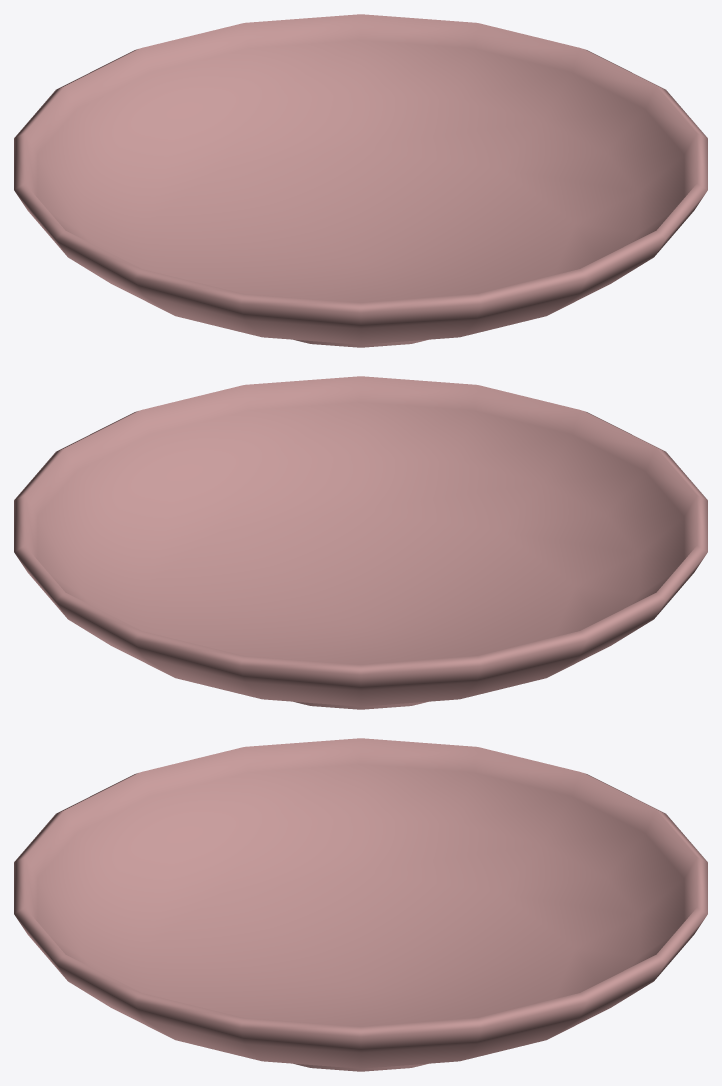
The model's file is Ceramic_06.FBX.
The picture shows the model from 3 angles, top to bottom: view 1: azimuth 30°, elevation 25°; view 2: azimuth 150°, elevation 25°; view 3: azimuth 270°, elevation 25°; orthographic projection.
Visible parts, largest first — view 1: Ceramic_06; view 2: Ceramic_06; view 3: Ceramic_06.
Part boxes in pixels (bbox=[...]): Ceramic_06: bbox=[14, 14, 707, 347]; Ceramic_06: bbox=[14, 376, 707, 709]; Ceramic_06: bbox=[14, 738, 707, 1071].
Bounding box in the file's own units: 54.96 × 10.92 × 54.13.
